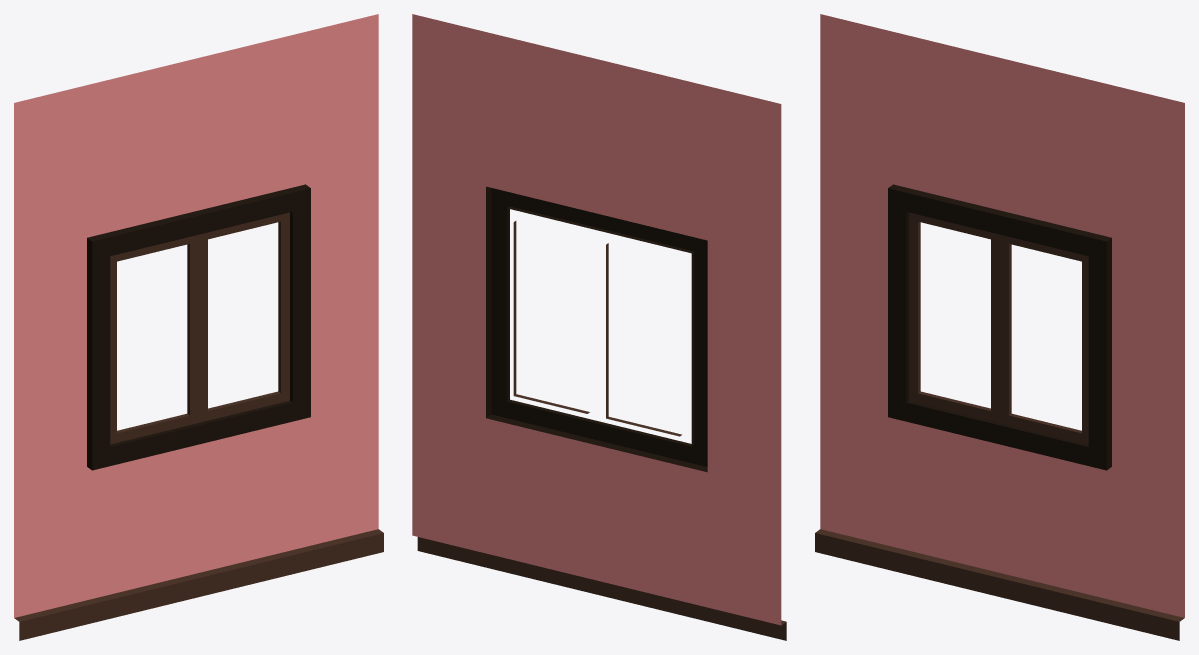
Rendered from SM_Fenetre_1_1x2.fbx.
3 views of the same model, side by side, from view 1: azimuth 30°, elevation 25°; view 2: azimuth 150°, elevation 25°; view 3: azimuth 330°, elevation 25° (orthographic).
Visible parts, largest first — view 1: SM_Fenetre_1_1x2; view 2: SM_Fenetre_1_1x2; view 3: SM_Fenetre_1_1x2.
Boxes of the visible parts, x1,y1,x2,y2 form: SM_Fenetre_1_1x2: (14,14,383,640); SM_Fenetre_1_1x2: (412,14,786,640); SM_Fenetre_1_1x2: (815,14,1184,640).
Bounding box in the file's own units: 2 × 2.8 × 0.05.
